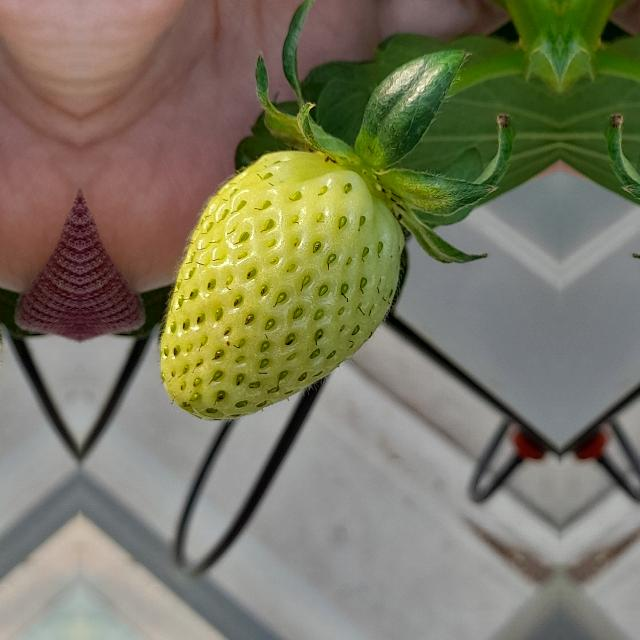Health_25: (160, 146, 404, 422)
